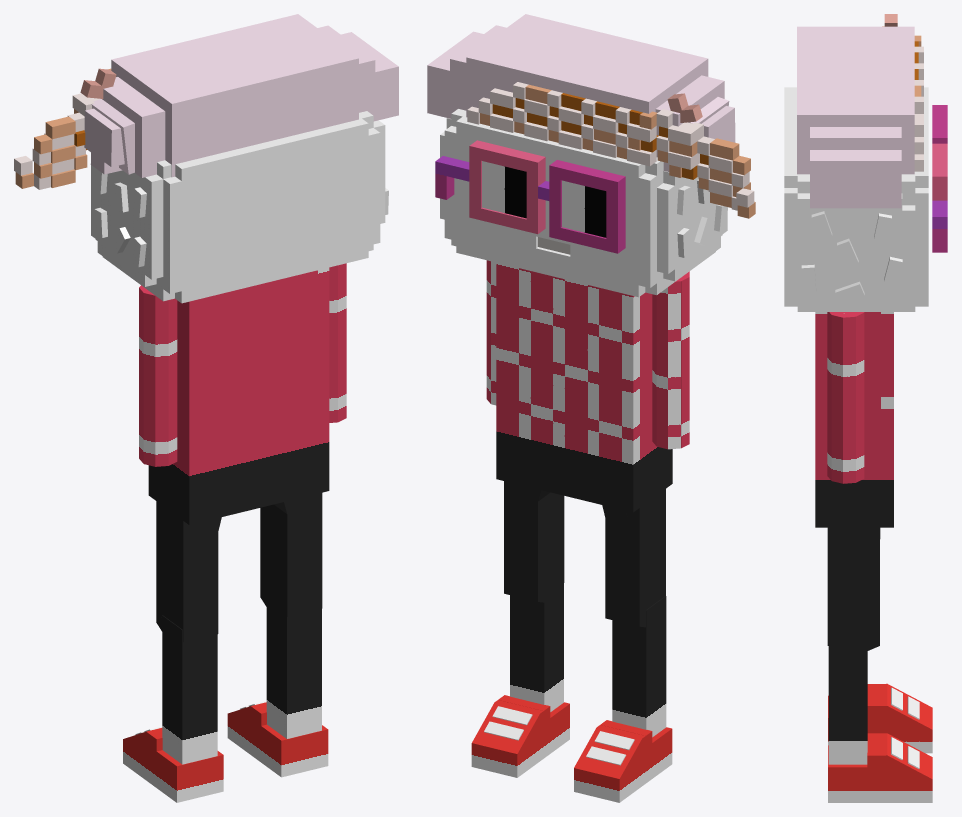
File: render-noguro.gltf
3 renders of one model, left to right at view 1: azimuth 30°, elevation 25°; view 2: azimuth 150°, elevation 25°; view 3: azimuth 270°, elevation 25°, orthographic. The views are drawn at different scales.
Parts seen in each view (by area): view 1: sushi-Local, Kohada-Local, Belly-Local, Chest-Local, Left_Thigh-Local, Left_Leg-Local, Right_Thigh-Local, Right_Leg-Local, RIGHT_SNEAKER-Local, LEFT_SNEAKER-Local, @@@@@@-Local, layer-1-top-Local (+9 smaller); view 2: sushi-Local, Kohada-Local, Belly-Local, Chest-Local, top-Local, layer-1-Local, Left_Thigh-Local, Left_Leg-Local, Right_Thigh-Local, Right_Leg-Local, layer-2-Local, layer-1-top-Local (+13 smaller); view 3: Kohada-Local, sushi-Local, Belly-Local, Right_Thigh-Local, Right_Leg-Local, Chest-Local, RIGHT_SNEAKER-Local, ###-Local, layer-1-Local, ####-Local, LEFT_SNEAKER-Local, ##-Local (+12 smaller).
Part boxes in pixels (x1,y1,x2,y2): sushi-Local: (91, 111, 385, 303); Kohada-Local: (102, 14, 398, 177); Belly-Local: (148, 377, 329, 524); Chest-Local: (177, 267, 329, 413); Left_Thigh-Local: (156, 501, 218, 642); Left_Leg-Local: (162, 615, 217, 764); Right_Thigh-Local: (260, 493, 322, 616); Right_Leg-Local: (266, 607, 321, 738); RIGHT_SNEAKER-Local: (227, 706, 328, 777); LEFT_SNEAKER-Local: (123, 731, 223, 802); @@@@@@-Local: (155, 296, 168, 466); layer-1-top-Local: (15, 68, 111, 188); sushi-Local: (440, 109, 727, 297); Kohada-Local: (427, 14, 724, 171); Belly-Local: (496, 371, 672, 512); Chest-Local: (496, 262, 652, 404); top-Local: (467, 82, 754, 210); layer-1-Local: (435, 141, 624, 253); Left_Thigh-Local: (605, 489, 665, 626); Left_Leg-Local: (612, 596, 666, 737); Right_Thigh-Local: (504, 481, 564, 601); Right_Leg-Local: (510, 583, 563, 711); layer-2-Local: (440, 140, 625, 252); layer-1-top-Local: (480, 84, 755, 218); Kohada-Local: (797, 26, 914, 208); sushi-Local: (784, 87, 928, 311); Belly-Local: (815, 409, 893, 527); Right_Thigh-Local: (827, 527, 879, 645); Right_Leg-Local: (828, 634, 867, 764); Chest-Local: (815, 312, 893, 420); RIGHT_SNEAKER-Local: (828, 733, 932, 802); ###-Local: (841, 312, 855, 483); layer-1-Local: (934, 105, 947, 252); ####-Local: (831, 312, 846, 483); LEFT_SNEAKER-Local: (828, 684, 932, 753); ##-Local: (847, 312, 864, 482).
Bounding box in the file's own units: 28.49 × 58.76 × 12.45.
64 materials, 64 textured.
